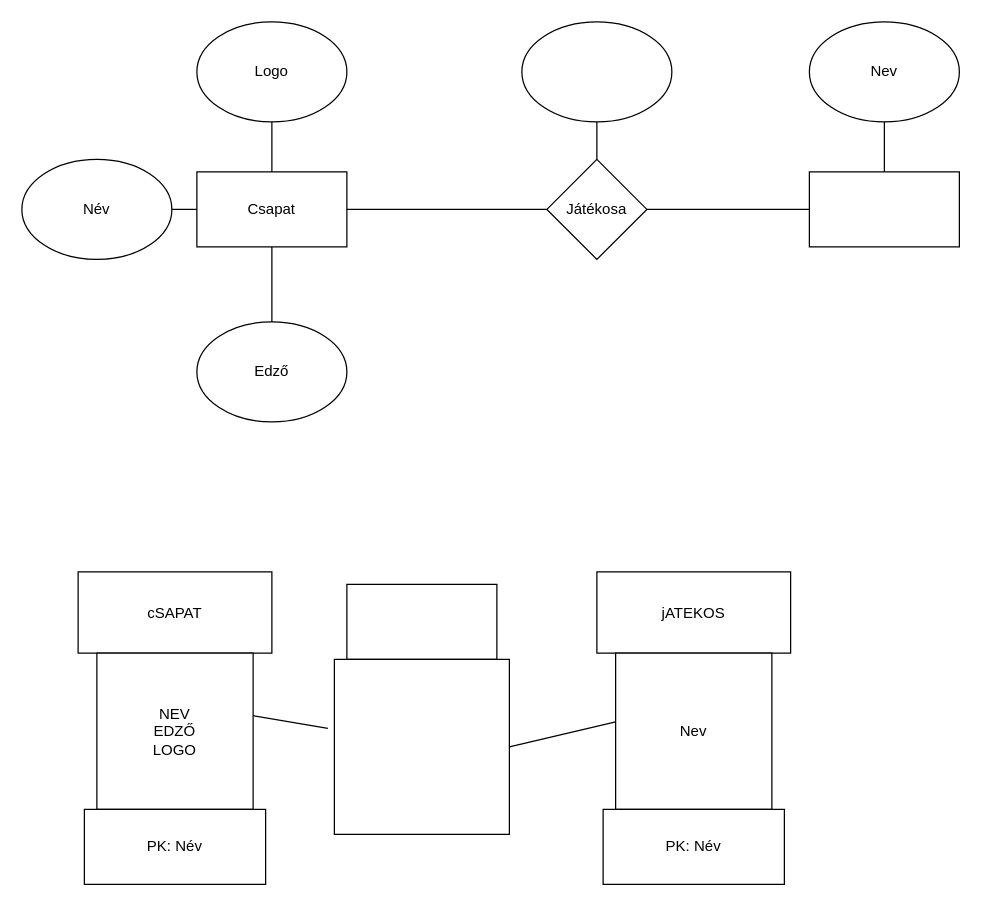
This 981x906 diagram has some shape labels left out. The centre of each missing label's shape, as x and y in pixels:
Csapatnév Jatekos nev Mezszam: the point at 421,746
Jatekosa: the point at 421,621
Játékos: the point at 883,209
Mezszam: the point at 596,71
